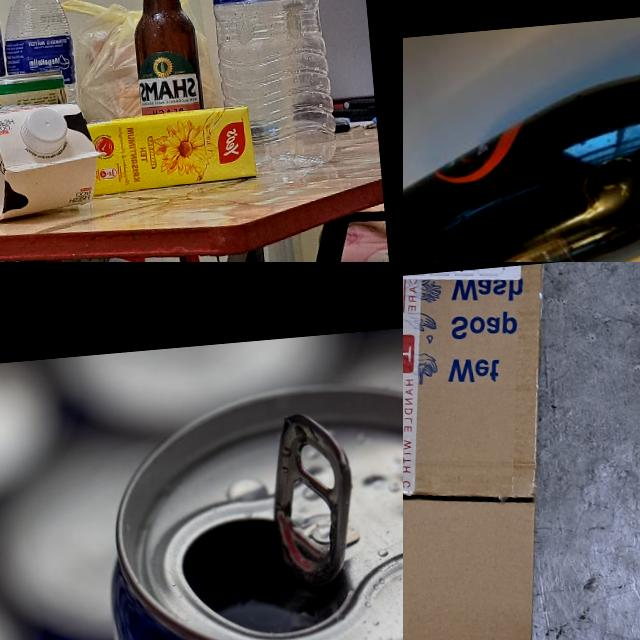aba de lata: (258, 406, 362, 594)
caixinha: (85, 104, 258, 195), (0, 95, 110, 230)
garrafa de vidro: (403, 2, 640, 262), (126, 0, 203, 113)
garrafa plástica: (196, 0, 339, 175), (0, 0, 77, 107)
lata: (84, 365, 403, 640), (0, 68, 65, 108)
papelão: (403, 263, 593, 640)
tampa plástica: (20, 106, 70, 156)
